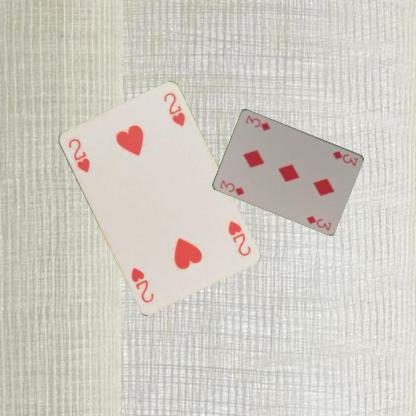2h: (225, 218, 252, 257), (65, 136, 91, 173)
3d: (330, 148, 359, 167), (217, 178, 246, 196)
